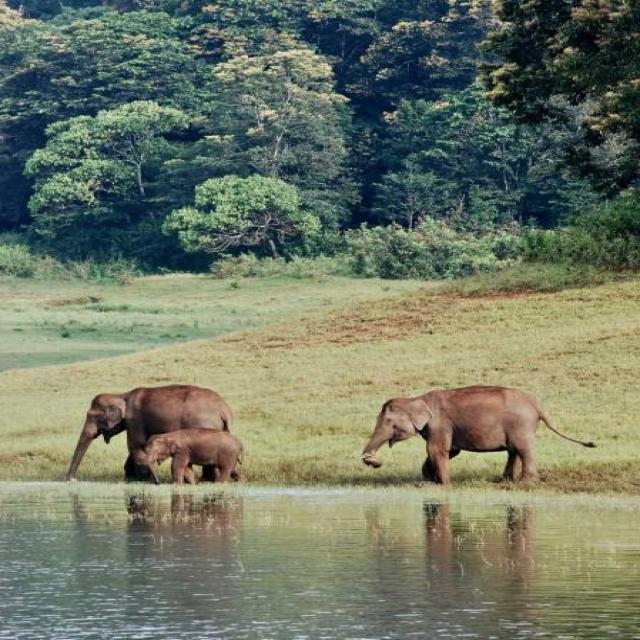Elephant: (355, 370, 579, 511), (65, 377, 250, 501), (131, 429, 240, 500)
